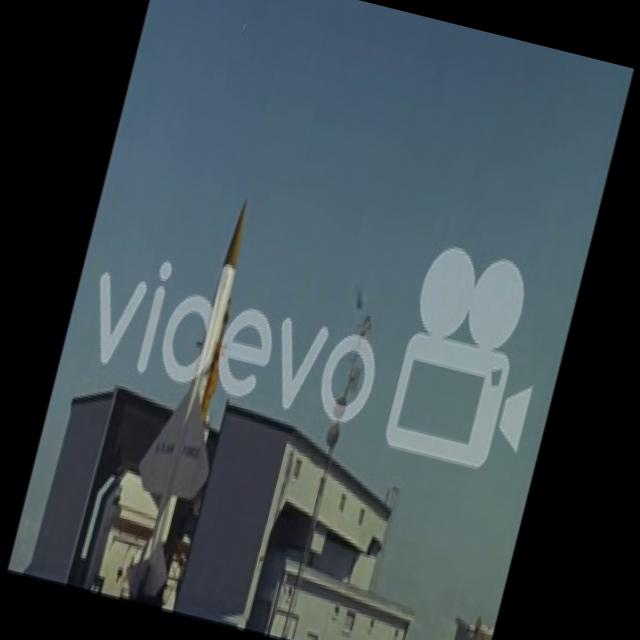rocket: (132, 183, 274, 526)
